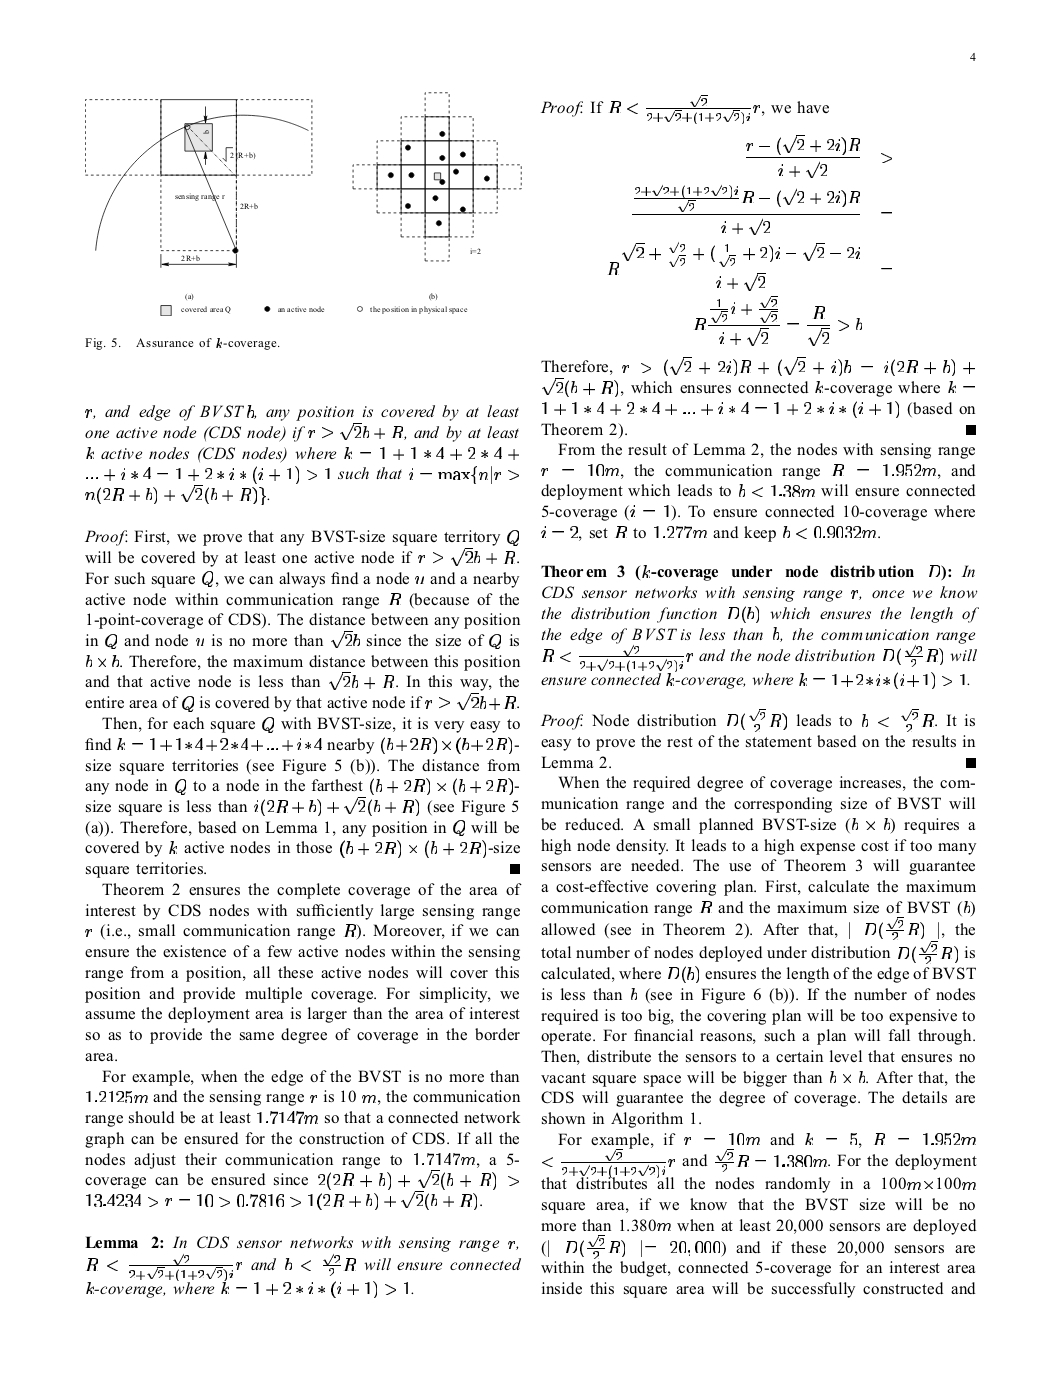figure: (85, 91, 520, 267)
formula: (632, 176, 890, 234), (607, 240, 890, 291), (541, 94, 828, 124), (693, 295, 862, 345), (86, 1191, 481, 1209), (746, 134, 890, 178), (85, 485, 269, 504)
